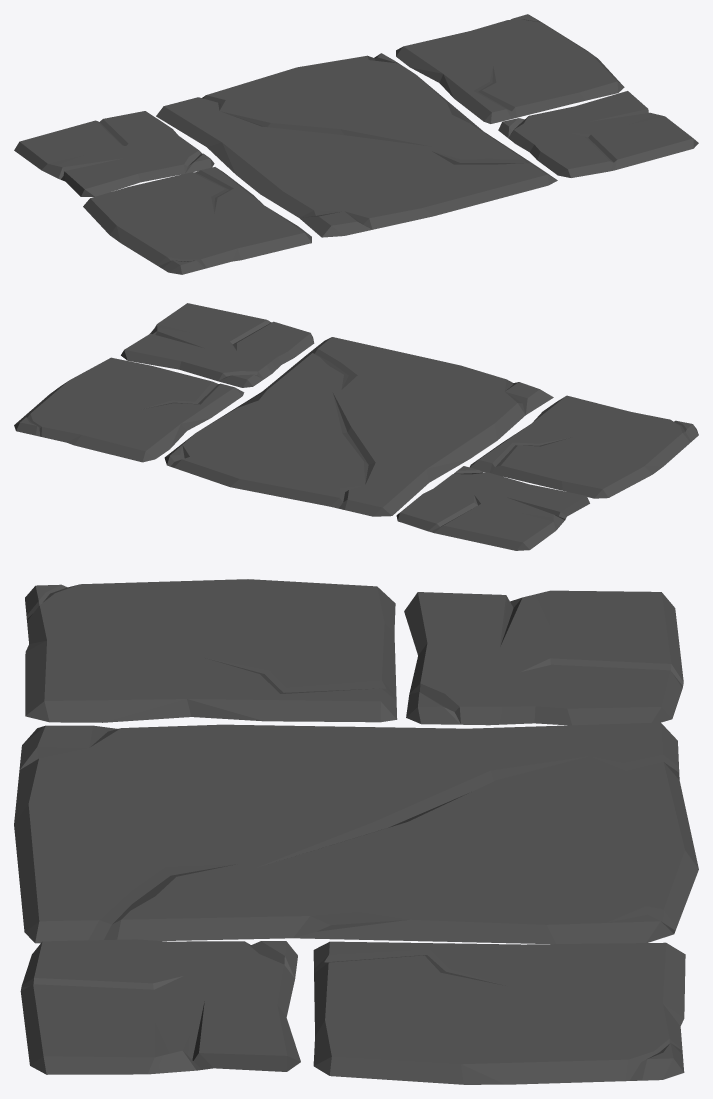
The model's file is stone_slab.fbx.
The picture shows the model from 3 angles, top to bottom: view 1: azimuth 30°, elevation 25°; view 2: azimuth 150°, elevation 25°; view 3: azimuth 270°, elevation 25°; orthographic projection. The views are drawn at different scales.
Parts seen in each view (by area): view 1: stone_slab_1, stone_slab_3, stone_slab_3.1, stone_slab_2, stone_slab_2.1; view 2: stone_slab_1, stone_slab_3.1, stone_slab_3, stone_slab_2, stone_slab_2.1; view 3: stone_slab_1, stone_slab_3.1, stone_slab_3, stone_slab_2, stone_slab_2.1.
Boxes of the visible parts, box(x1,y1,x2,y2) form: stone_slab_1: box(156, 53, 557, 237); stone_slab_3: box(83, 167, 311, 274); stone_slab_3.1: box(396, 14, 624, 123); stone_slab_2: box(498, 91, 698, 177); stone_slab_2.1: box(14, 111, 214, 196); stone_slab_1: box(164, 337, 553, 516); stone_slab_3.1: box(14, 357, 244, 462); stone_slab_3: box(469, 395, 698, 498); stone_slab_2: box(121, 303, 314, 387); stone_slab_2.1: box(396, 466, 589, 550); stone_slab_1: box(14, 722, 698, 944); stone_slab_3.1: box(313, 941, 685, 1084); stone_slab_3: box(25, 579, 397, 722); stone_slab_2: box(20, 939, 300, 1074); stone_slab_2.1: box(404, 590, 683, 725).
Bounding box in the file's own units: 192 × 2.43 × 111.
